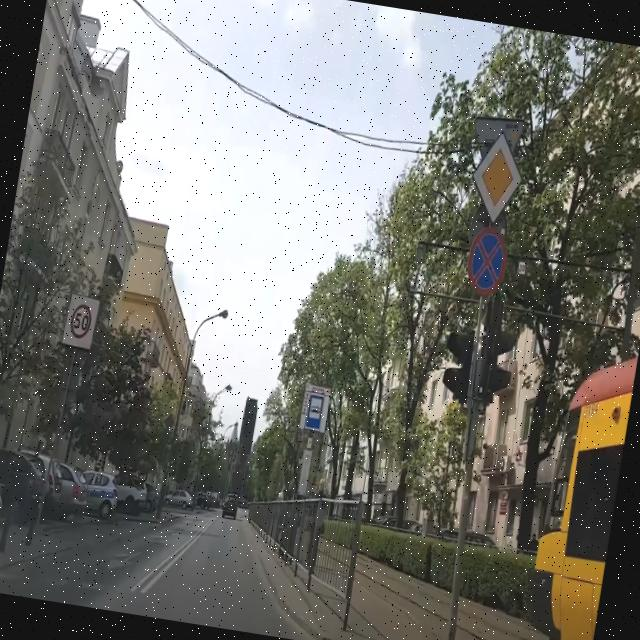Droga z pierwszenstwem: (462, 127, 529, 226)
Zakaz zatrzymywania sie: (461, 224, 512, 300)
